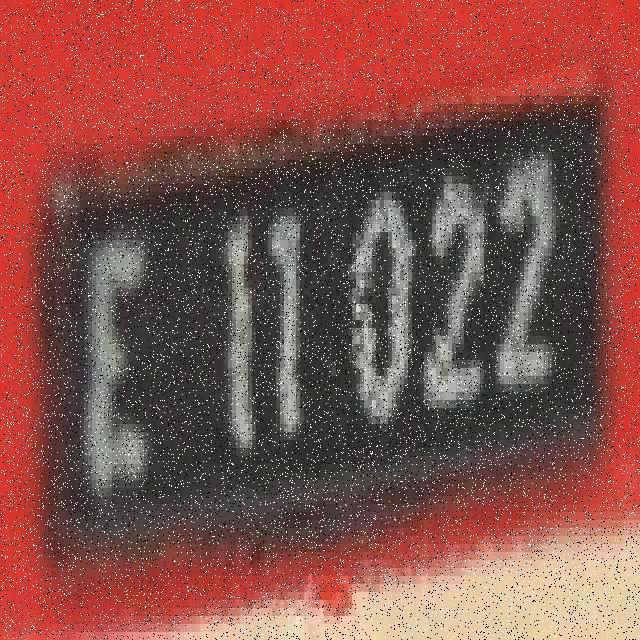LicensePlate: (32, 70, 615, 540)
